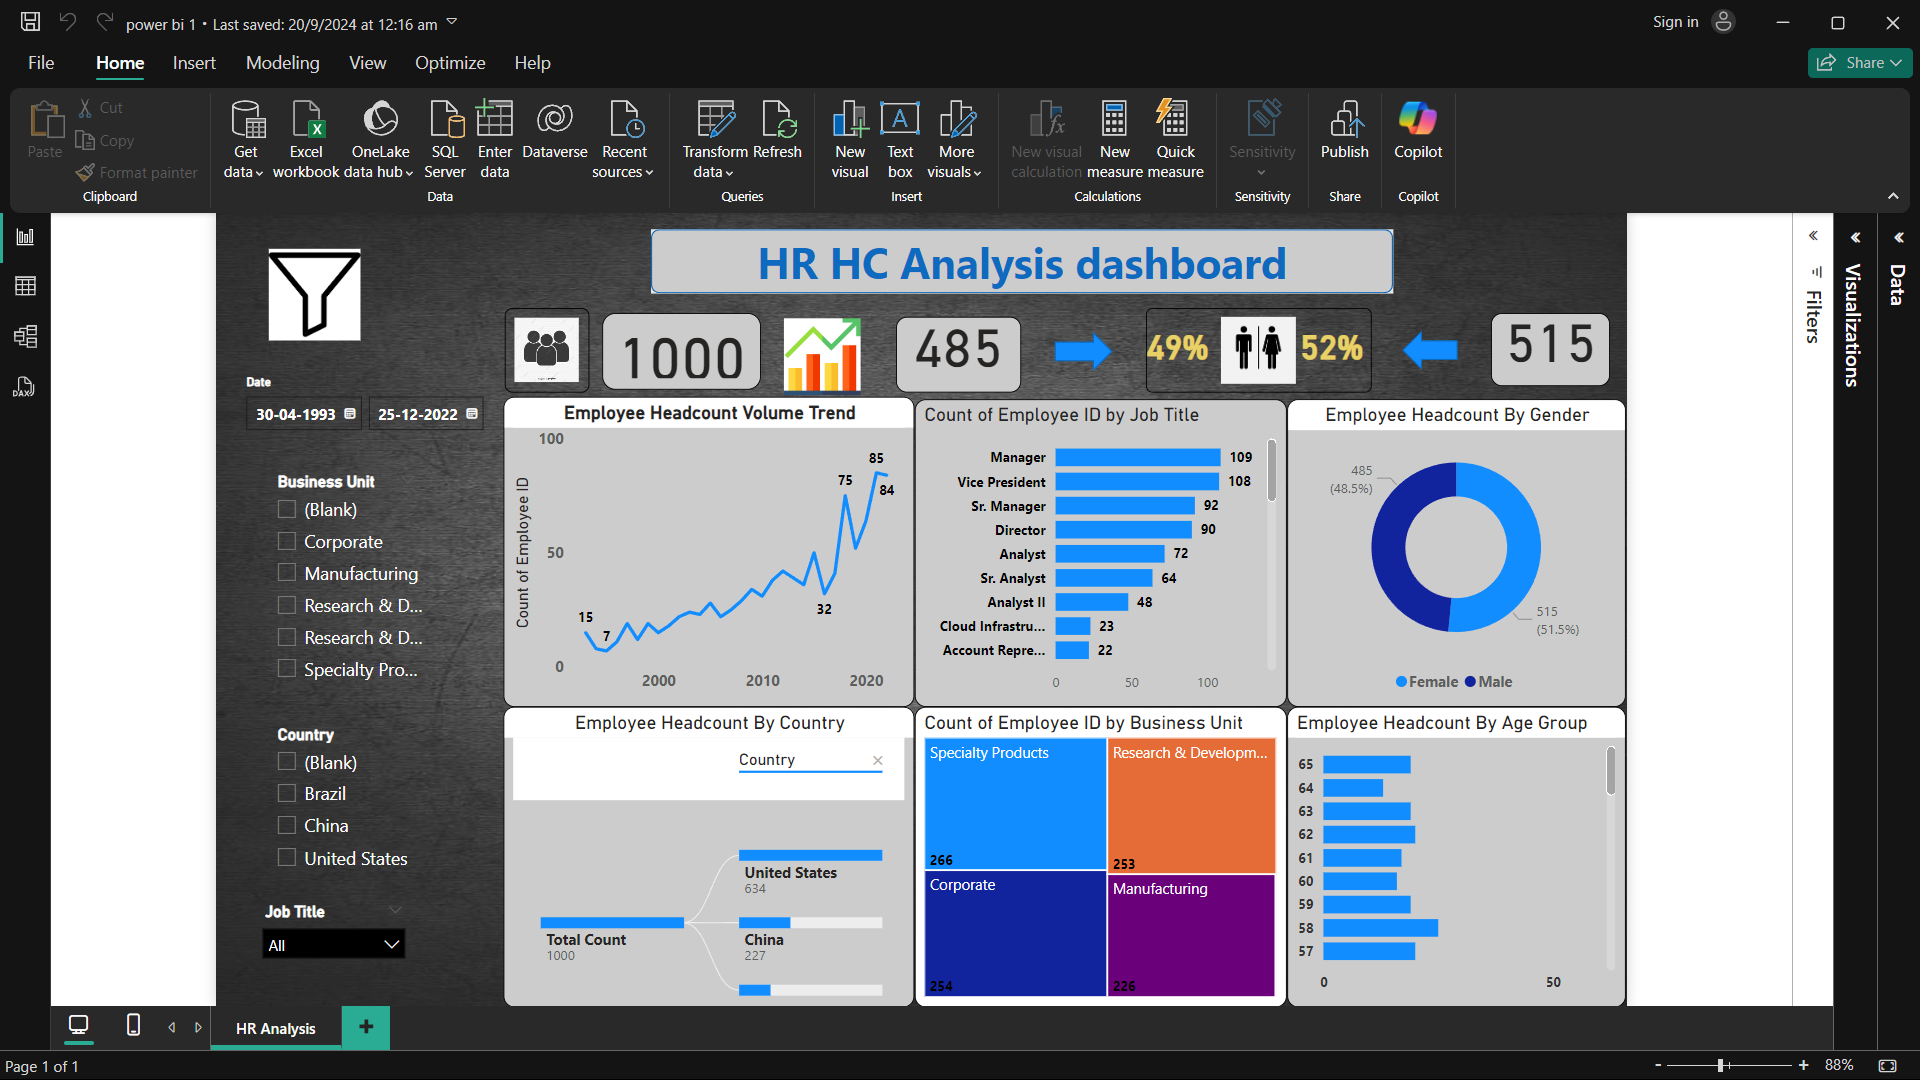

The dashboard page shown, as its layout file describes it:
{"tool":"powerbi","page":{"name":"HR Analysis","canvas":[1280,720],"ordinal":0},"visuals":[{"type":"card","fields":{"Values":["CountNonNull(Employee Data.Employee ID)"]},"box":[350,90.7,144.2,69.8],"z":0},{"type":"image","box":[261.6,86,76.7,76.7],"z":1000},{"type":"lineChart","title":"Employee Headcount Volume Trend","fields":{"Category":["Employee Data.Hire Date.Variation.Date Hierarchy.Year","Employee Data.Hire Date.Variation.Date Hierarchy.Quarter","Employee Data.Hire Date.Variation.Date Hierarchy.Month","Employee Data.Hire Date.Variation.Date Hierarchy.Day"],"Y":["CountNonNull(Employee Data.Employee ID)"]},"box":[261.3,166.4,373,281.4],"z":2000},{"type":"donutChart","title":"Employee Headcount By Gender","fields":{"Category":["Employee Data.Gender"],"Y":["CountNonNull(Employee Data.Employee ID)"]},"box":[972.6,168.6,307.1,279.2],"z":3000},{"type":"clusteredBarChart","title":"Employee Headcount By Age Group","fields":{"Category":["Employee Data.Age"],"Y":["CountNonNull(Employee Data.Employee ID)"]},"box":[972.6,447.8,307.1,272.5],"z":4000},{"type":"decompositionTreeVisual","title":"Employee Headcount By Country","fields":{"Analyze":["CountNonNull(Employee Data.Country)"],"ExplainBy":["Employee Data.Country"]},"box":[261.3,447.8,373,272.5],"z":5000},{"type":"treemap","fields":{"Group":["Employee Data.Business Unit"],"Values":["CountNonNull(Employee Data.Employee ID)"]},"box":[634.2,447.8,337.2,272.5],"z":6000},{"type":"clusteredBarChart","fields":{"Category":["Employee Data.Job Title"],"Y":["CountNonNull(Employee Data.Employee ID)"]},"box":[634.2,168.6,337.2,279.2],"z":7000},{"type":"image","box":[844.2,86,204.7,76.7],"z":8000},{"type":"card","fields":{"Values":["Employee Data.Total_Count_Male"]},"box":[617.4,94.2,114,68.6],"z":9000},{"type":"card","fields":{"Values":["Employee Data.Total_Count_Female"]},"box":[1157,90.7,108.1,66.3],"z":10000},{"type":"card","fields":{"Values":["Employee Data.Male%"]},"box":[832.6,105.8,80.2,51.2],"z":11000},{"type":"card","fields":{"Values":["Employee Data.Female%"]},"box":[972.1,105.8,80.2,51.2],"z":12000},{"type":"shape","box":[394.2,15.1,673.3,58],"z":13000},{"type":"image","box":[494.2,90.7,111.6,79.1],"z":14000},{"type":"shape","box":[761.5,107.2,52.5,35.7],"z":15000},{"type":"shape","box":[1076.4,106.1,50.2,35.7],"z":16000},{"type":"slicer","fields":{"Values":["Employee Data.Country"]},"box":[43,459.3,150,150],"z":17000},{"type":"slicer","fields":{"Values":["Employee Data.Job Title"]},"box":[31.4,620.9,150,72.1],"z":18000},{"type":"slicer","fields":{"Values":["Employee Data.Business Unit"]},"box":[43,230.2,150,217.4],"z":19000},{"type":"slicer","fields":{"Values":["Employee Data.Hire Date"]},"box":[15.1,141.9,244.2,76.7],"z":20000},{"type":"image","box":[43,25.6,93,95.3],"z":20001}]}

Visuals, with their boxes on the page's 1280x720 design canvas (x1, y1, x2, y2). These are canvas units, not pixel positions in the 1920x1080 screenshot, which may show the page scaled, cropped or inside an application window:
card - CountNonNull(Employee Data.Employee ID): (left=350, top=91, right=494, bottom=160)
image: (left=262, top=86, right=338, bottom=163)
"Employee Headcount Volume Trend" lineChart: (left=261, top=166, right=634, bottom=448)
"Employee Headcount By Gender" donutChart: (left=973, top=169, right=1280, bottom=448)
"Employee Headcount By Age Group" clusteredBarChart: (left=973, top=448, right=1280, bottom=720)
"Employee Headcount By Country" decompositionTreeVisual: (left=261, top=448, right=634, bottom=720)
treemap - Employee Data.Business Unit x CountNonNull(Employee Data.Employee ID): (left=634, top=448, right=971, bottom=720)
clusteredBarChart - Employee Data.Job Title x CountNonNull(Employee Data.Employee ID): (left=634, top=169, right=971, bottom=448)
image: (left=844, top=86, right=1049, bottom=163)
card - Employee Data.Total_Count_Male: (left=617, top=94, right=731, bottom=163)
card - Employee Data.Total_Count_Female: (left=1157, top=91, right=1265, bottom=157)
card - Employee Data.Male%: (left=833, top=106, right=913, bottom=157)
card - Employee Data.Female%: (left=972, top=106, right=1052, bottom=157)
shape: (left=394, top=15, right=1068, bottom=73)
image: (left=494, top=91, right=606, bottom=170)
shape: (left=762, top=107, right=814, bottom=143)
shape: (left=1076, top=106, right=1127, bottom=142)
slicer - Employee Data.Country: (left=43, top=459, right=193, bottom=609)
slicer - Employee Data.Job Title: (left=31, top=621, right=181, bottom=693)
slicer - Employee Data.Business Unit: (left=43, top=230, right=193, bottom=448)
slicer - Employee Data.Hire Date: (left=15, top=142, right=259, bottom=219)
image: (left=43, top=26, right=136, bottom=121)
